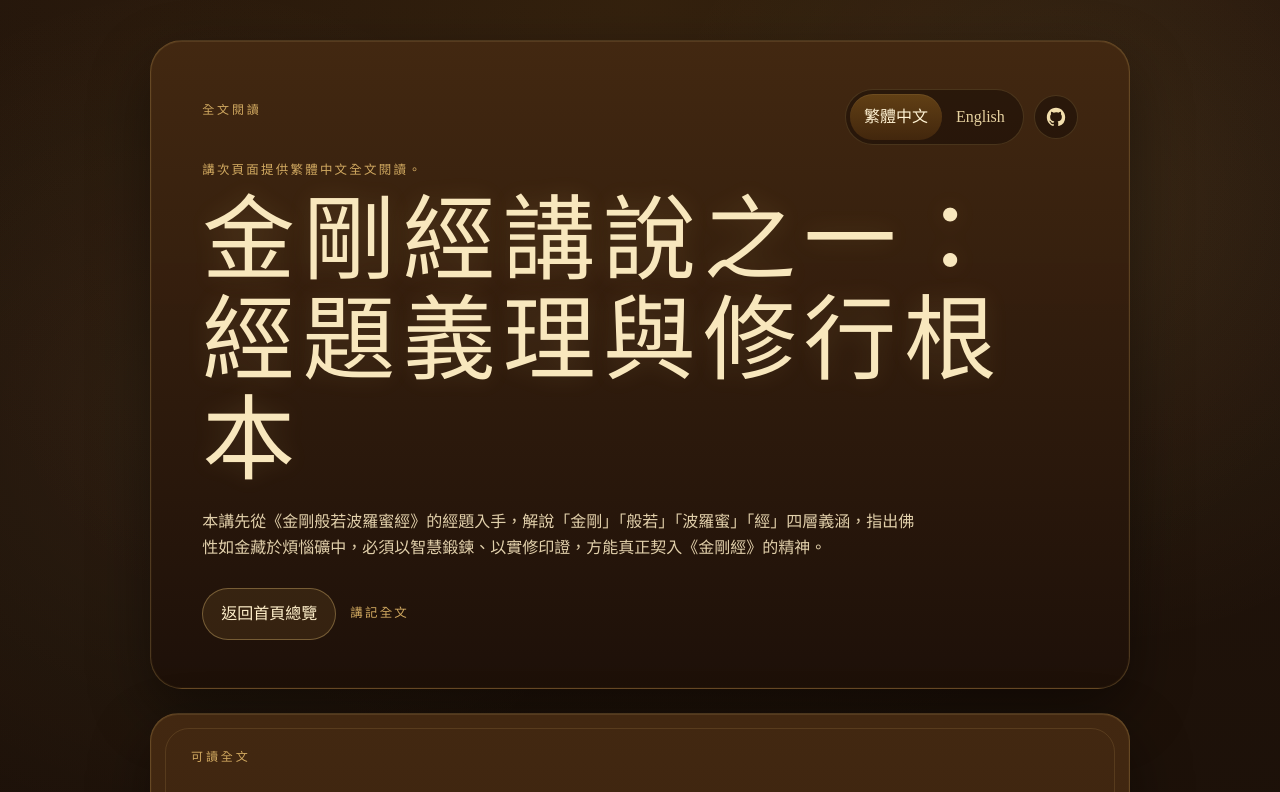
Test: App › shows the English Diamond lecture page for lecture 1 when English is selected
This screenshot has width=1280, height=792.
Click the button "English": [980, 117] box [942,94,1019,140]
(page scrolled)
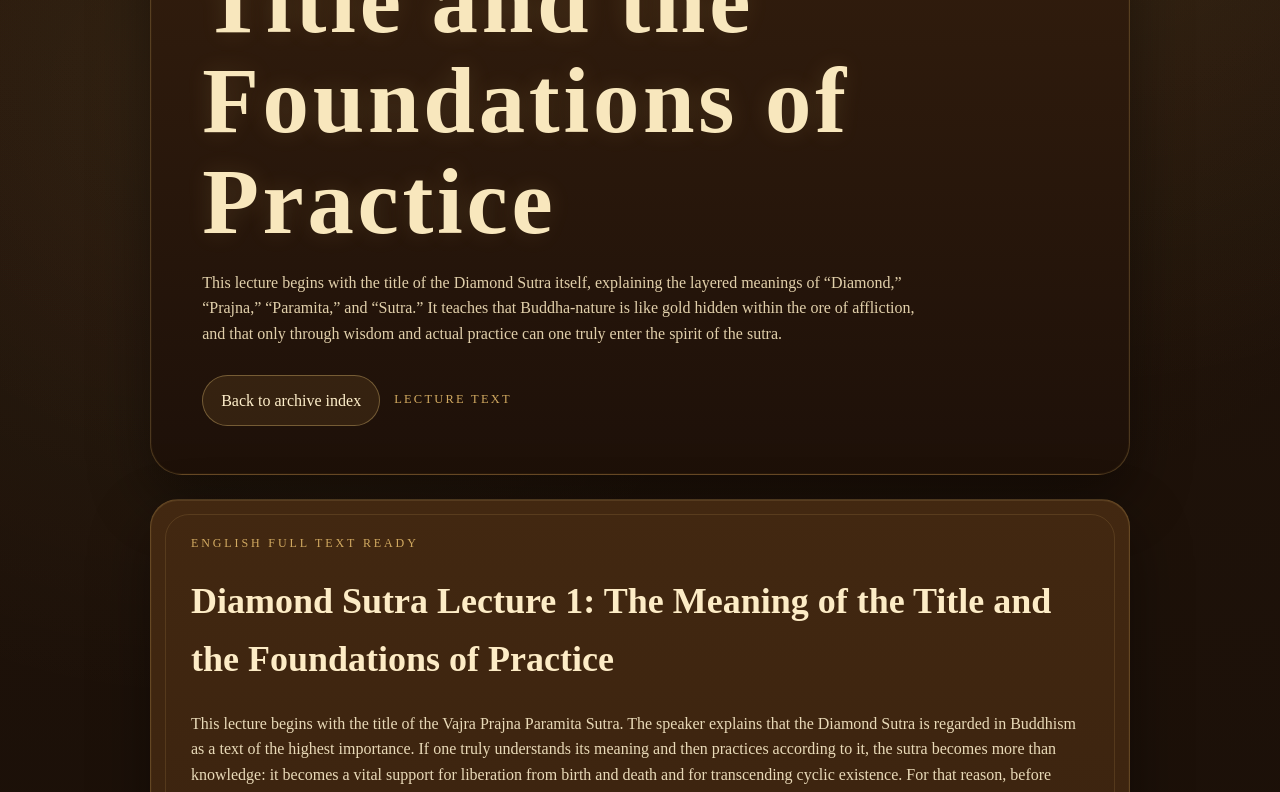
Check: the button "Back to archive index" is shown, box [202,375,380,426]
